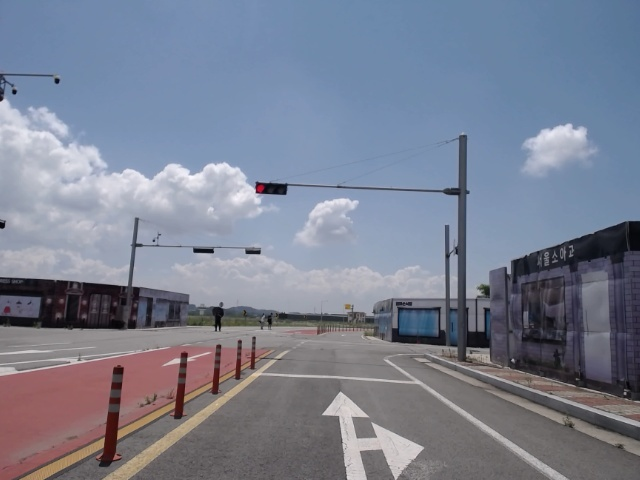red_3: (255, 183, 289, 196)
